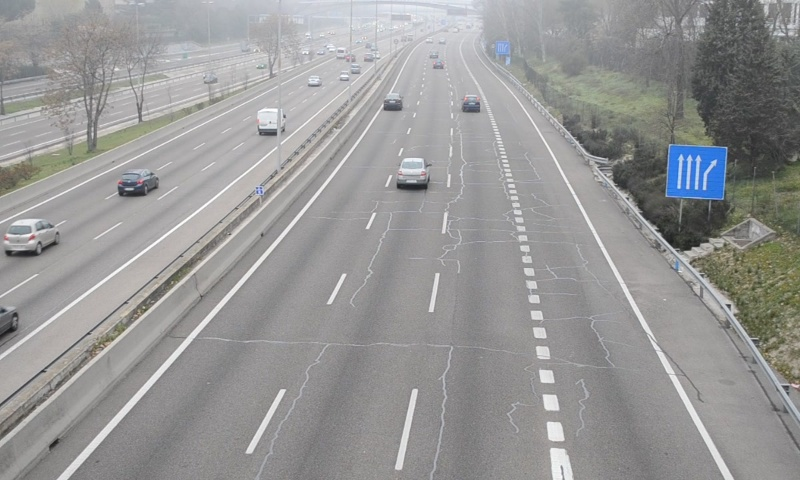car: (398, 158, 428, 189), (462, 94, 481, 113), (383, 94, 402, 112)
